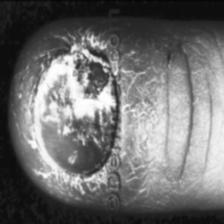Toxin: (28, 45, 108, 186)
